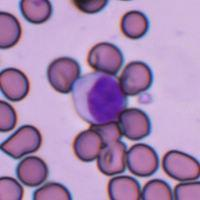L: (72, 71, 127, 125)
